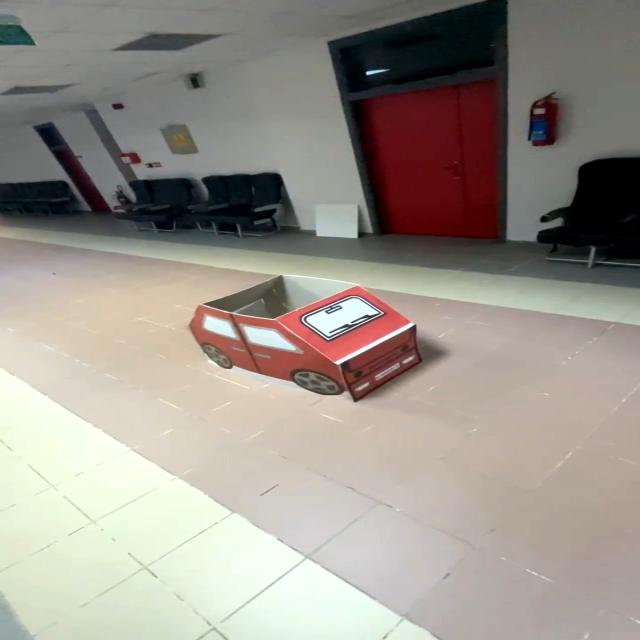red_car: (160, 266, 460, 419)
